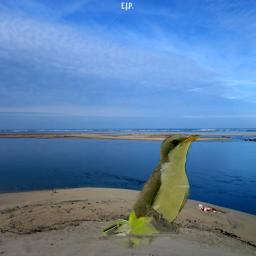Cuckoo: (102, 131, 203, 250)
